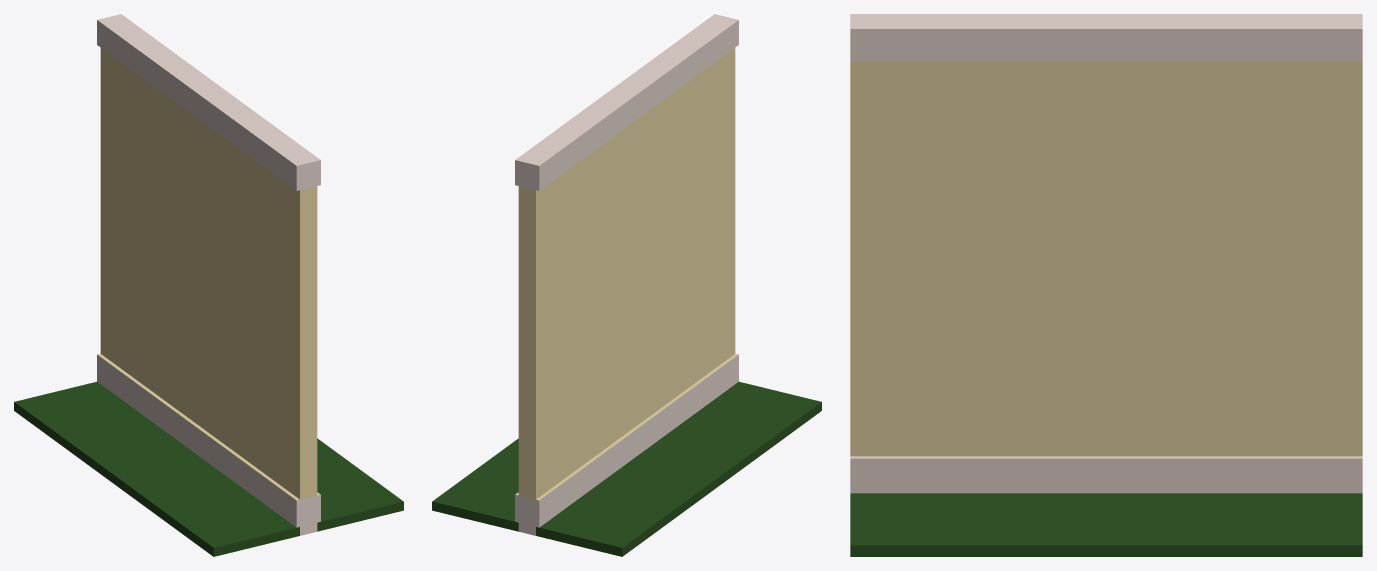
Rendered from Inside Wall.fbx.
The picture shows the model from 3 angles, left to right: view 1: azimuth 30°, elevation 25°; view 2: azimuth 150°, elevation 25°; view 3: azimuth 270°, elevation 25°; orthographic projection. The views are drawn at different scales.
Parts seen in each view (by area): view 1: Inside Wall; view 2: Inside Wall; view 3: Inside Wall.
Boxes of the visible parts, x1,y1,x2,y2 form: Inside Wall: [14, 14, 403, 556]; Inside Wall: [432, 14, 821, 556]; Inside Wall: [850, 14, 1362, 556].
Bounding box in the file's own units: 110 × 205 × 200.
